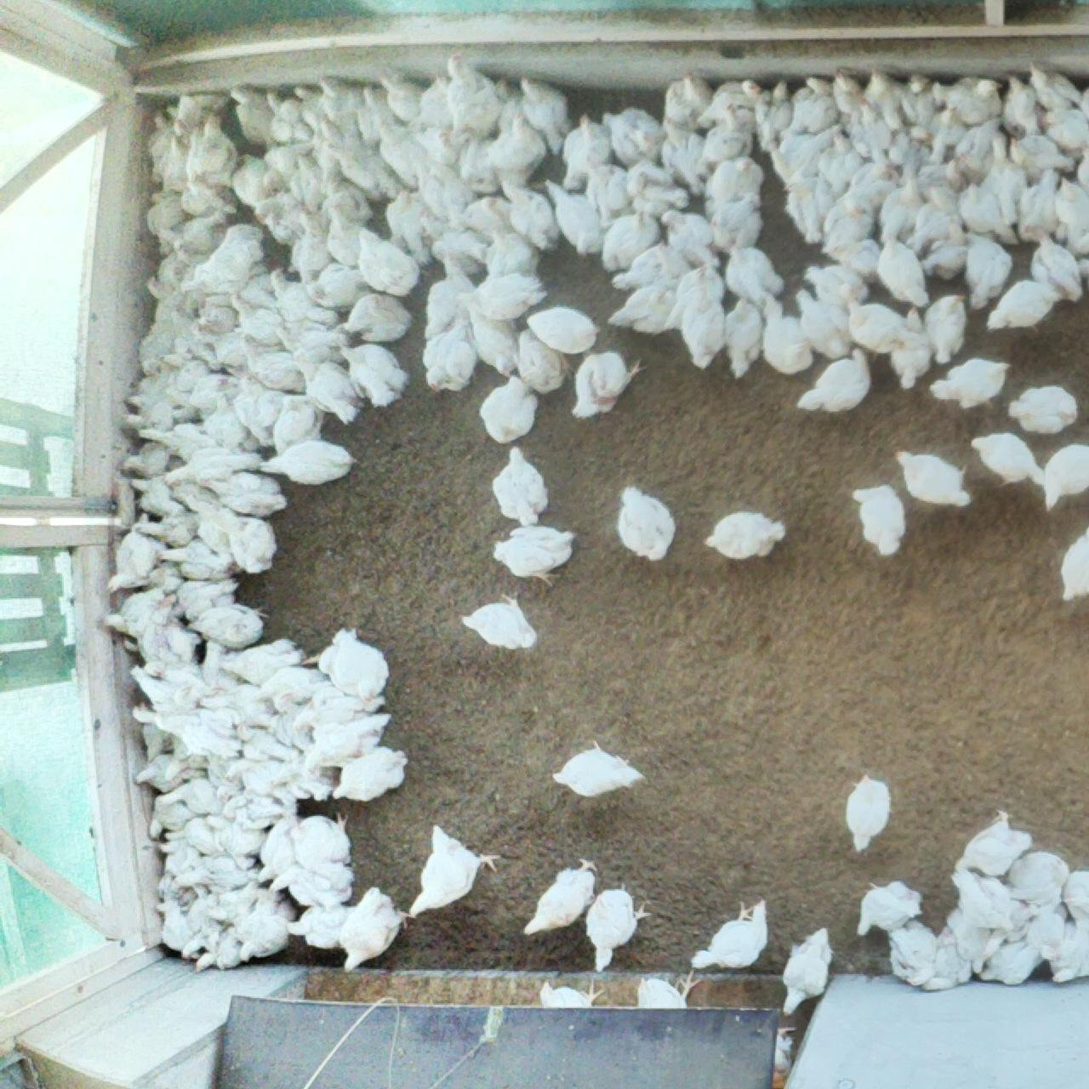chicken: (406, 821, 504, 923), (183, 491, 278, 576), (316, 112, 400, 198), (338, 883, 417, 974), (177, 222, 269, 298), (304, 627, 391, 702), (547, 739, 653, 800), (689, 897, 773, 972), (522, 854, 597, 938), (489, 96, 549, 200), (453, 285, 522, 375), (567, 345, 647, 422), (675, 262, 730, 373), (631, 968, 703, 1052), (211, 636, 325, 689), (584, 884, 650, 971), (492, 523, 577, 590), (796, 344, 874, 417), (402, 141, 476, 216), (955, 808, 1035, 877), (692, 101, 763, 178), (542, 177, 610, 257), (252, 808, 322, 884), (101, 512, 165, 595), (251, 439, 359, 488), (294, 683, 389, 738), (163, 710, 254, 767), (497, 171, 561, 252), (292, 346, 359, 422), (161, 448, 264, 497), (424, 253, 483, 338), (450, 47, 505, 138), (1023, 221, 1084, 303), (316, 184, 374, 270), (875, 220, 932, 307), (609, 282, 693, 341), (304, 716, 397, 769), (283, 900, 375, 953), (154, 534, 245, 587), (460, 591, 539, 652), (970, 430, 1053, 488), (758, 293, 816, 376), (335, 341, 409, 406), (538, 979, 602, 1054), (893, 448, 974, 507), (782, 924, 832, 1019), (332, 743, 411, 803), (792, 286, 856, 360), (102, 589, 186, 645), (490, 445, 548, 526), (357, 226, 424, 296), (284, 811, 355, 877), (618, 483, 676, 562), (624, 154, 695, 218), (512, 322, 573, 396), (239, 329, 308, 394), (374, 116, 436, 188), (930, 357, 1012, 411), (843, 289, 912, 353), (478, 375, 541, 445), (267, 860, 355, 910), (982, 133, 1029, 226), (517, 73, 574, 149), (982, 278, 1062, 332), (842, 773, 895, 854), (960, 178, 1022, 247), (172, 850, 263, 897), (959, 230, 1013, 309), (423, 316, 477, 395), (611, 248, 698, 297), (879, 912, 935, 988), (704, 510, 787, 561), (719, 295, 770, 378), (184, 601, 272, 649), (339, 287, 413, 344), (977, 927, 1045, 989), (468, 268, 549, 320), (271, 268, 341, 328), (270, 318, 354, 368), (702, 153, 767, 217), (560, 112, 612, 192), (521, 304, 599, 357), (384, 187, 436, 266), (851, 483, 908, 555), (661, 205, 725, 269), (950, 864, 1013, 929), (821, 187, 874, 264), (271, 750, 345, 805), (128, 701, 211, 750), (855, 881, 925, 939), (206, 885, 296, 930), (127, 663, 198, 720), (130, 614, 201, 671), (598, 207, 658, 274), (185, 112, 240, 185), (604, 103, 663, 171), (696, 79, 770, 133), (157, 578, 240, 626), (252, 663, 341, 707), (887, 305, 933, 390), (724, 241, 787, 303), (270, 392, 329, 458), (460, 133, 513, 206), (192, 915, 257, 974), (659, 120, 713, 191), (923, 923, 976, 995), (581, 152, 633, 225), (945, 902, 999, 972), (132, 505, 214, 551), (207, 813, 274, 869), (127, 472, 194, 528), (148, 117, 198, 192), (155, 89, 230, 139), (194, 473, 283, 515), (235, 152, 295, 214), (427, 219, 493, 275), (661, 72, 716, 139), (1008, 384, 1080, 435), (253, 195, 325, 246), (711, 191, 765, 259), (1024, 59, 1083, 121), (226, 720, 302, 768), (879, 173, 925, 252), (1040, 439, 1089, 512), (263, 87, 318, 152), (155, 900, 215, 959), (485, 227, 543, 288), (1014, 167, 1059, 245), (918, 294, 968, 364), (285, 214, 338, 280), (785, 176, 837, 243), (1021, 894, 1072, 962), (1014, 852, 1071, 912), (740, 1019, 801, 1075), (166, 811, 238, 858), (145, 656, 217, 703), (825, 237, 891, 288), (150, 229, 209, 286), (199, 683, 276, 726), (136, 422, 227, 458), (154, 775, 230, 818), (147, 317, 218, 363), (455, 192, 523, 240), (411, 68, 457, 138), (232, 911, 295, 962), (143, 274, 200, 330), (144, 186, 200, 243), (1008, 134, 1077, 180), (751, 77, 795, 149), (197, 639, 248, 701), (122, 401, 193, 445), (819, 133, 871, 193), (269, 688, 317, 753), (307, 259, 367, 311), (227, 293, 288, 344), (1044, 919, 1089, 988), (1001, 71, 1047, 138), (133, 753, 208, 794), (918, 222, 970, 281), (907, 196, 961, 252), (793, 76, 843, 136), (225, 754, 298, 795), (845, 158, 901, 211), (263, 133, 315, 190), (221, 787, 288, 831), (804, 262, 869, 307), (230, 84, 277, 146), (197, 325, 249, 381), (171, 178, 237, 222), (179, 914, 241, 960), (1053, 525, 1089, 604), (121, 441, 184, 485), (189, 374, 250, 419), (290, 150, 336, 209), (320, 76, 368, 132), (160, 349, 217, 396), (149, 793, 207, 839), (770, 124, 817, 179), (379, 67, 426, 122), (292, 84, 333, 147), (950, 77, 1003, 125), (835, 69, 879, 126), (889, 126, 936, 179), (139, 334, 187, 385), (135, 716, 188, 762), (867, 67, 905, 131), (160, 863, 214, 907), (158, 840, 222, 877), (928, 104, 966, 165), (212, 393, 250, 454), (848, 109, 891, 161), (127, 383, 182, 423), (181, 212, 232, 254), (1051, 176, 1089, 232), (1037, 113, 1089, 153), (902, 71, 939, 127), (934, 79, 988, 117), (198, 304, 252, 340), (929, 184, 972, 228), (1060, 868, 1089, 931), (1071, 149, 1089, 204), (1076, 85, 1089, 122)
